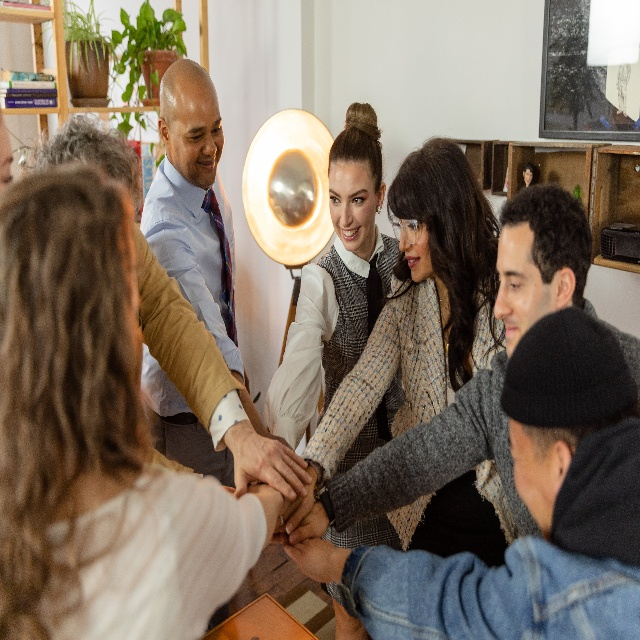Gafas: (390, 213, 419, 246)
Sin_guantes: (232, 432, 312, 497), (282, 535, 334, 584), (273, 502, 330, 545), (275, 481, 314, 534)
